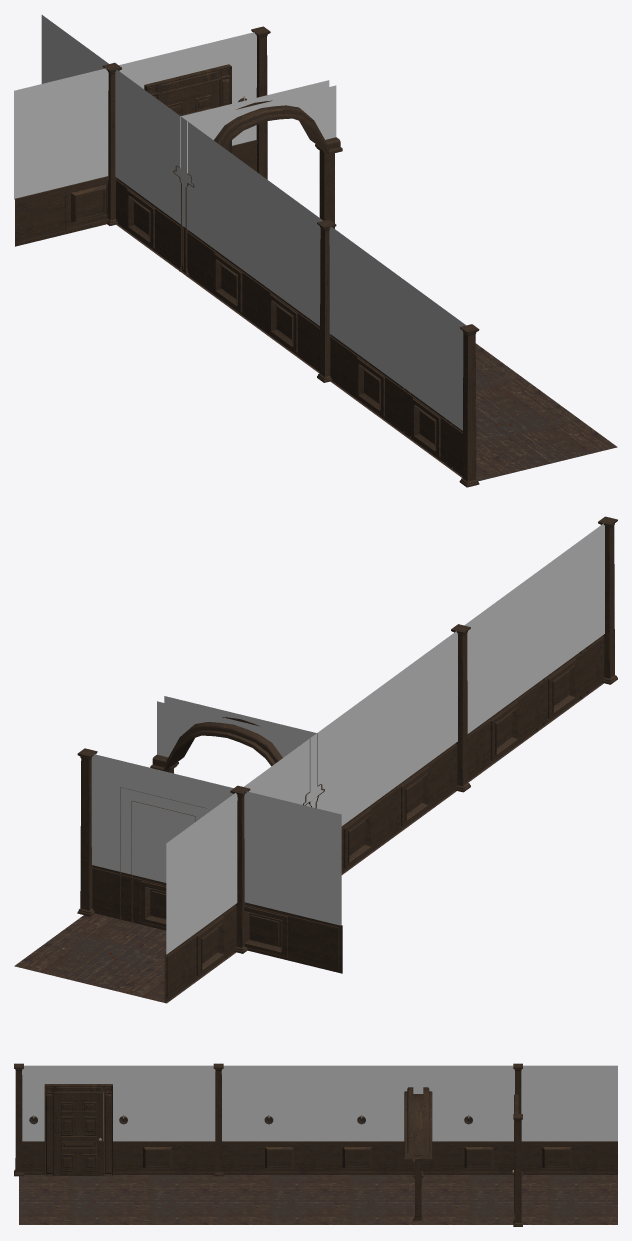
Rendered from Environment_Morris.fbx.
The picture shows the model from 3 angles, top to bottom: view 1: azimuth 30°, elevation 25°; view 2: azimuth 150°, elevation 25°; view 3: azimuth 270°, elevation 25°; orthographic projection. The views are drawn at different scales.
Parts seen in each view (by area): view 1: Wall02, Wall01, Wall03, Wall04, Floor01, Archway01, CornerPiece01, CornerPiece02, DoorFrame02, Door02, CornerPiece04, CornerPiece05; view 2: Wall03, Wall01, Wall02, Wall04, Floor03, Archway01, CornerPiece04, CornerPiece01, CornerPiece02, CornerPiece05; view 3: Wall02, Wall04, Wall01, Floor01, Floor02, Floor03, Door01, Archway01, DoorFrame01, CornerPiece01, CornerPiece04, CornerPiece02 (+1 smaller).
Boxes of the visible parts, x1,y1,x2,y2 form: Wall02: [184, 119, 323, 371]; Wall01: [329, 226, 465, 475]; Wall03: [14, 32, 257, 246]; Wall04: [41, 15, 185, 273]; Floor01: [330, 343, 617, 481]; Archway01: [173, 80, 342, 276]; CornerPiece01: [459, 324, 479, 487]; CornerPiece02: [317, 219, 336, 382]; DoorFrame02: [144, 64, 231, 153]; Door02: [158, 79, 219, 115]; CornerPiece04: [251, 26, 270, 179]; CornerPiece05: [102, 62, 121, 225]; Wall03: [91, 754, 342, 973]; Wall01: [464, 523, 604, 780]; Wall02: [313, 631, 457, 872]; Wall04: [164, 736, 313, 1002]; Floor03: [14, 913, 236, 1003]; Archway01: [150, 696, 324, 808]; CornerPiece04: [77, 748, 97, 916]; CornerPiece01: [598, 516, 617, 684]; CornerPiece02: [451, 624, 470, 792]; CornerPiece05: [230, 785, 250, 953]; Wall02: [221, 1065, 418, 1174]; Wall04: [418, 1065, 617, 1174]; Wall01: [22, 1065, 215, 1174]; Floor01: [19, 1175, 218, 1224]; Floor02: [218, 1175, 418, 1224]; Floor03: [418, 1175, 617, 1224]; Door01: [54, 1093, 103, 1175]; Archway01: [404, 1087, 432, 1222]; DoorFrame01: [44, 1084, 112, 1176]; CornerPiece01: [14, 1063, 23, 1176]; CornerPiece04: [513, 1114, 522, 1226]; CornerPiece02: [213, 1063, 223, 1176].
Size of the model in its own units: 512 by 300 by 1513.
